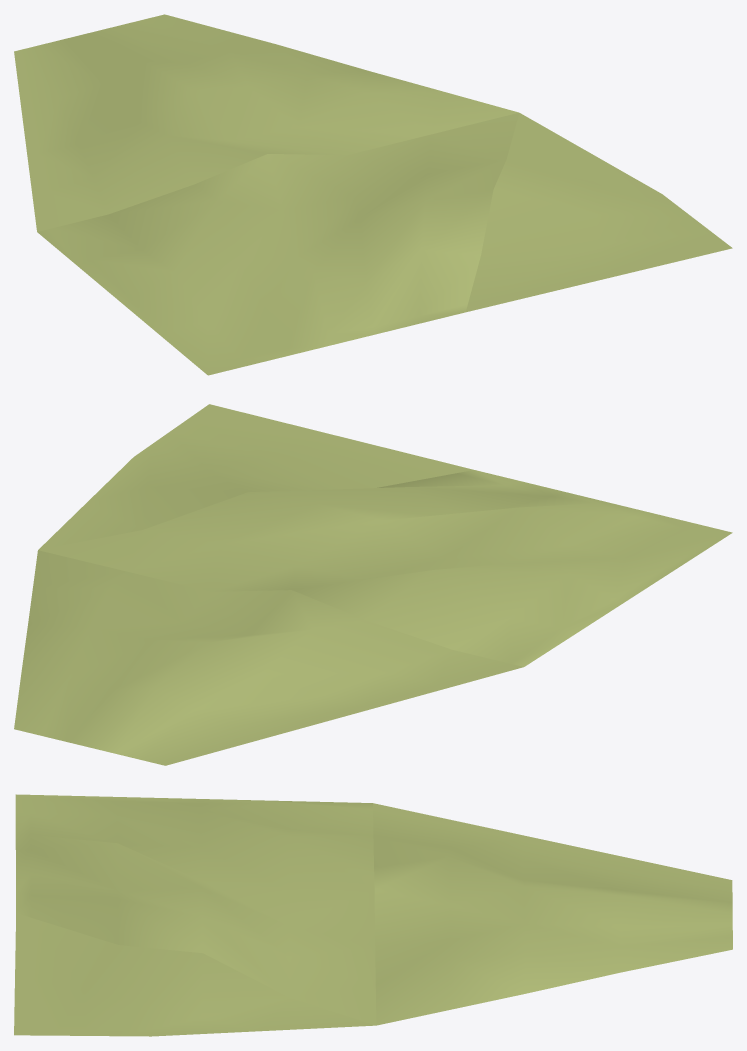
Rendered from grassTest_02.fbx.
3 views of the same model, one above another, from view 1: azimuth 30°, elevation 25°; view 2: azimuth 150°, elevation 25°; view 3: azimuth 270°, elevation 25° (orthographic). The views are drawn at different scales.
Visible parts, largest first — view 1: polySurface4; view 2: polySurface4; view 3: polySurface4.
Boxes of the visible parts, x1,y1,x2,y2 form: polySurface4: (14,14,732,375); polySurface4: (14,404,732,765); polySurface4: (14,794,732,1036).
Bounding box in the file's own units: 83.73 × 4.7 × 105.
